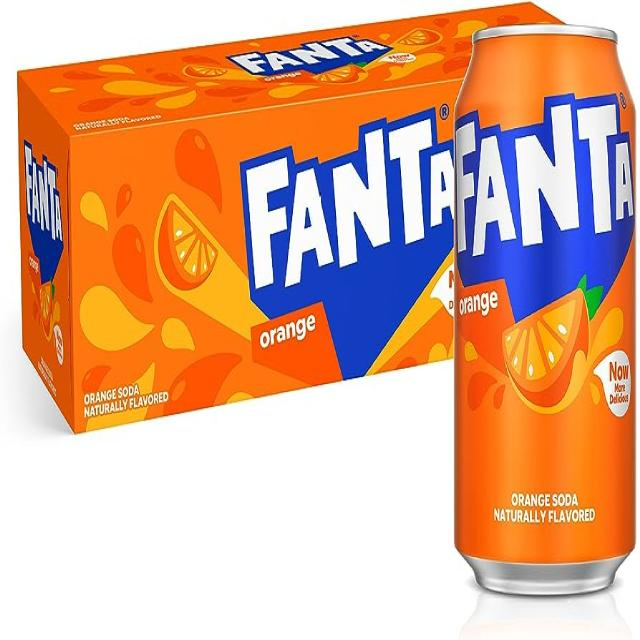fanta: (451, 26, 640, 598)
